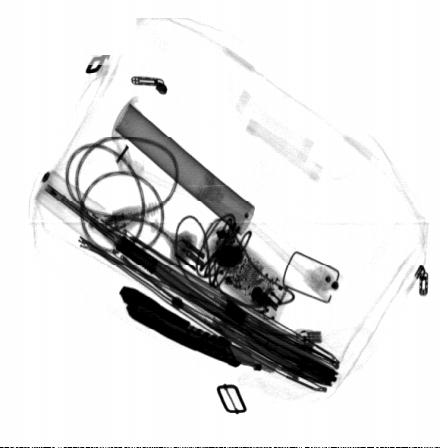Knife: (118, 285, 282, 375)
